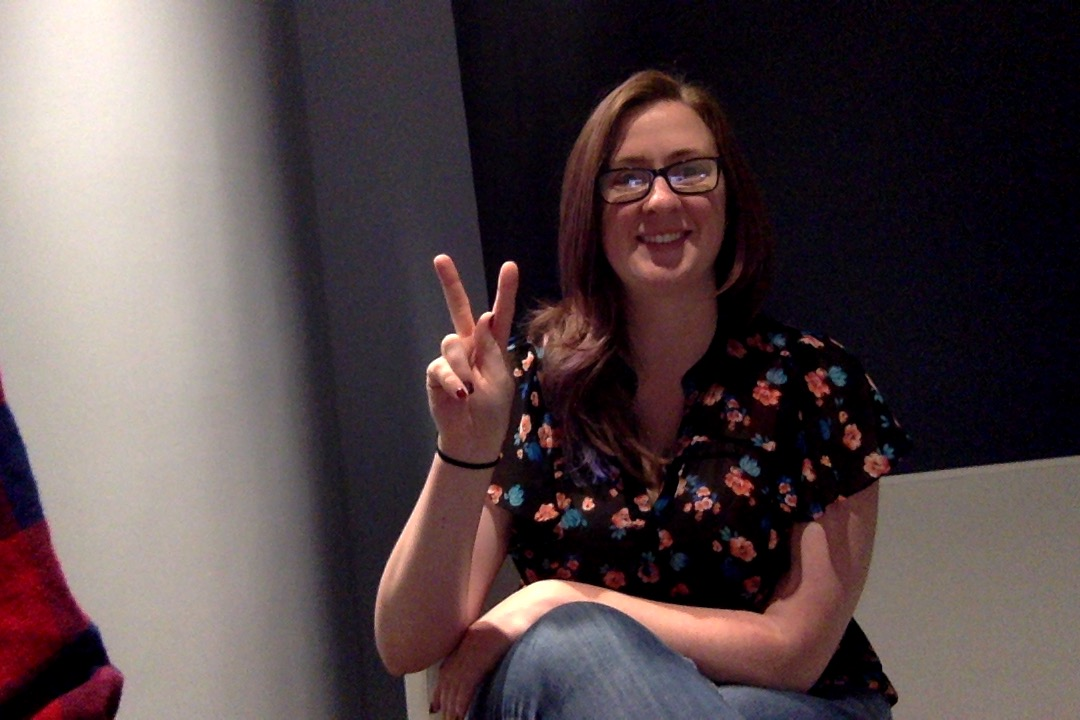k: (406, 243, 541, 469)
